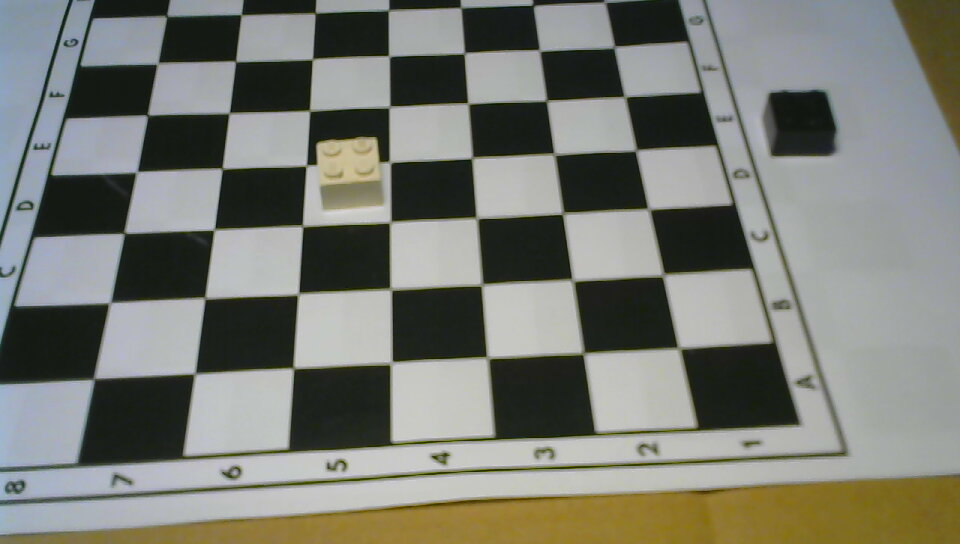bp: (764, 89, 837, 158)
wp: (314, 135, 383, 209)
